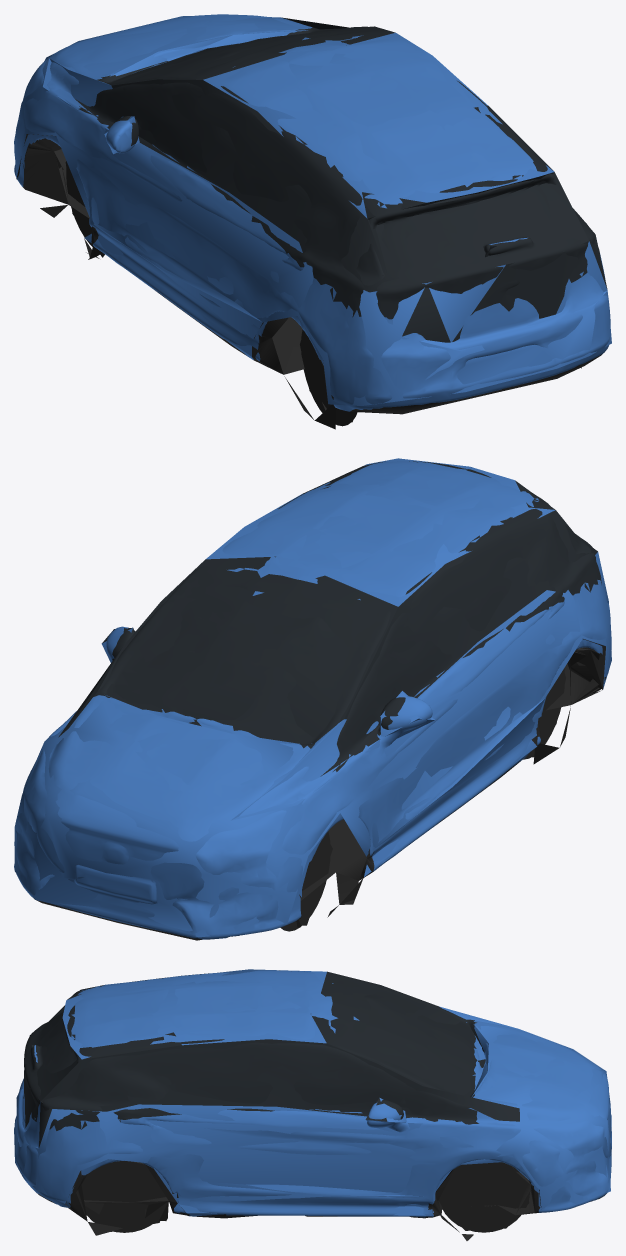
The model's file is ford-fiesta.glb.
3 renders of one model, top to bottom at view 1: azimuth 30°, elevation 25°; view 2: azimuth 150°, elevation 25°; view 3: azimuth 270°, elevation 25°, orthographic. The views are drawn at different scales.
Parts seen in each view (by area): view 1: body, far; view 2: body, far; view 3: body, far.
Part boxes in pixels (bbox=[...]): body: bbox=[14, 14, 610, 428]; far: bbox=[14, 16, 611, 429]; body: bbox=[14, 461, 611, 940]; far: bbox=[14, 458, 611, 937]; body: bbox=[14, 970, 611, 1240]; far: bbox=[14, 969, 611, 1234].
Size of the model in its own units: 1.95 by 1.5 by 4.09.
